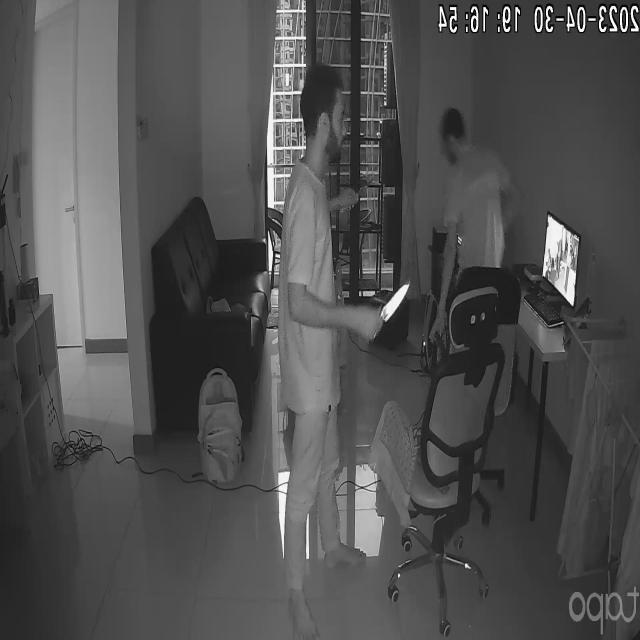Knife: (373, 280, 414, 330)
